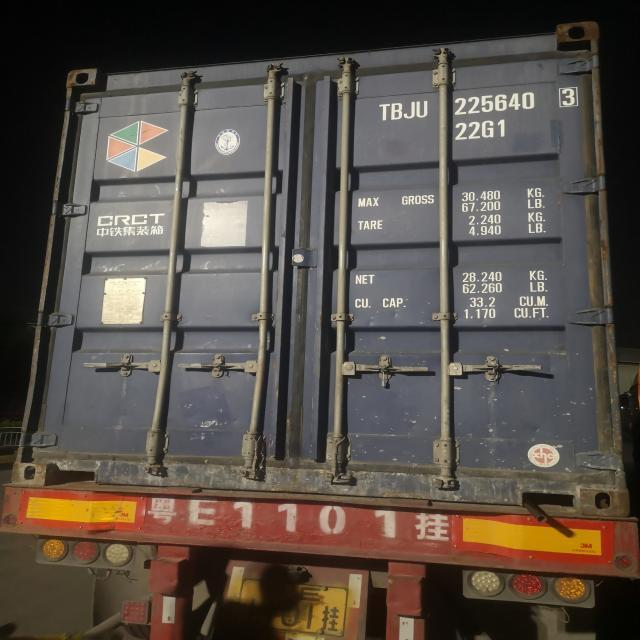ISO: (455, 118, 509, 142)
container_number: (371, 82, 582, 124)
